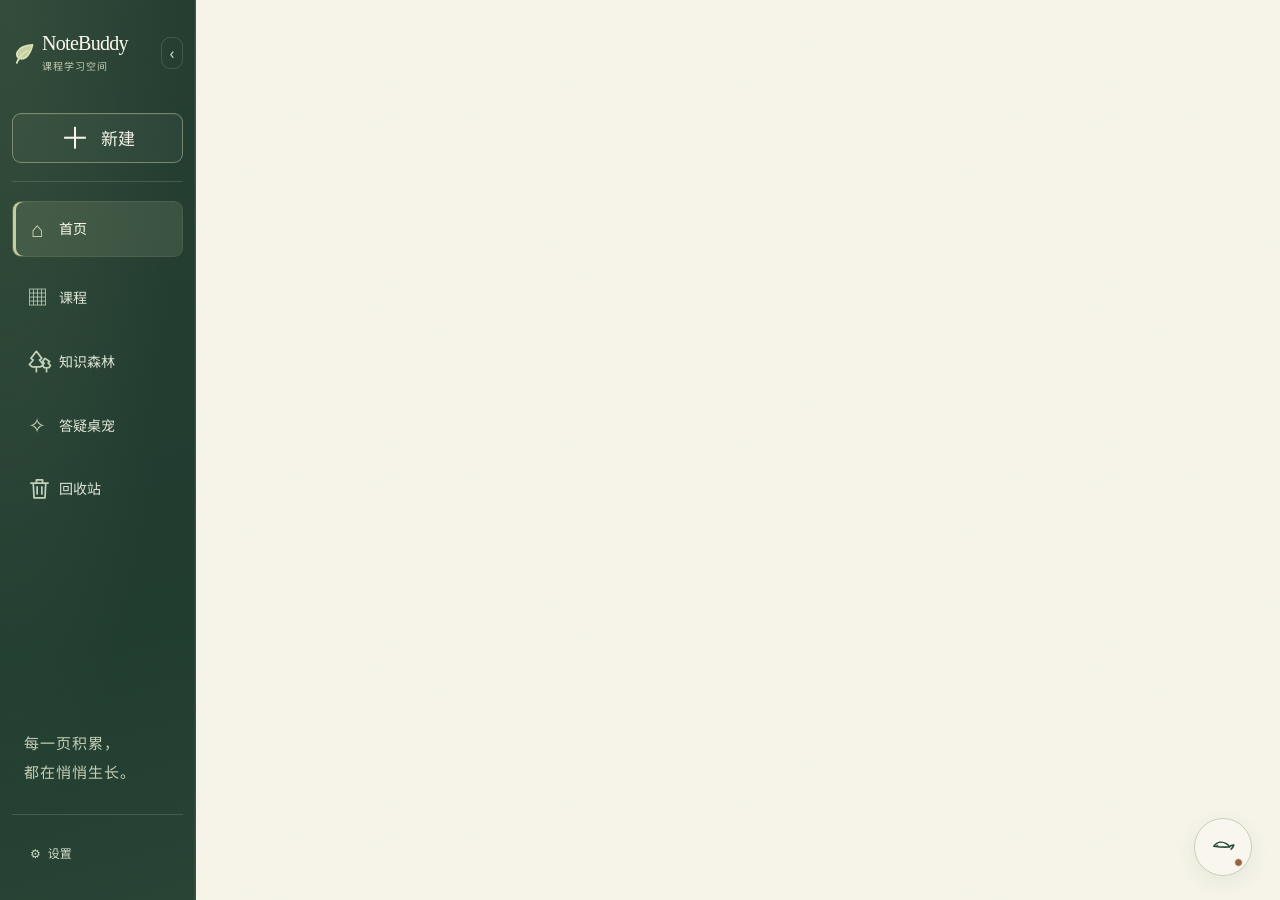
Test case: 非课程页（首页）打开的悬浮坞照样能提问，并说明课程落点
The width and height of the screenshot is (1280, 900).
Click the button named "打开课程学习助手". click: (1223, 847)
box: [1194,818,1252,876]
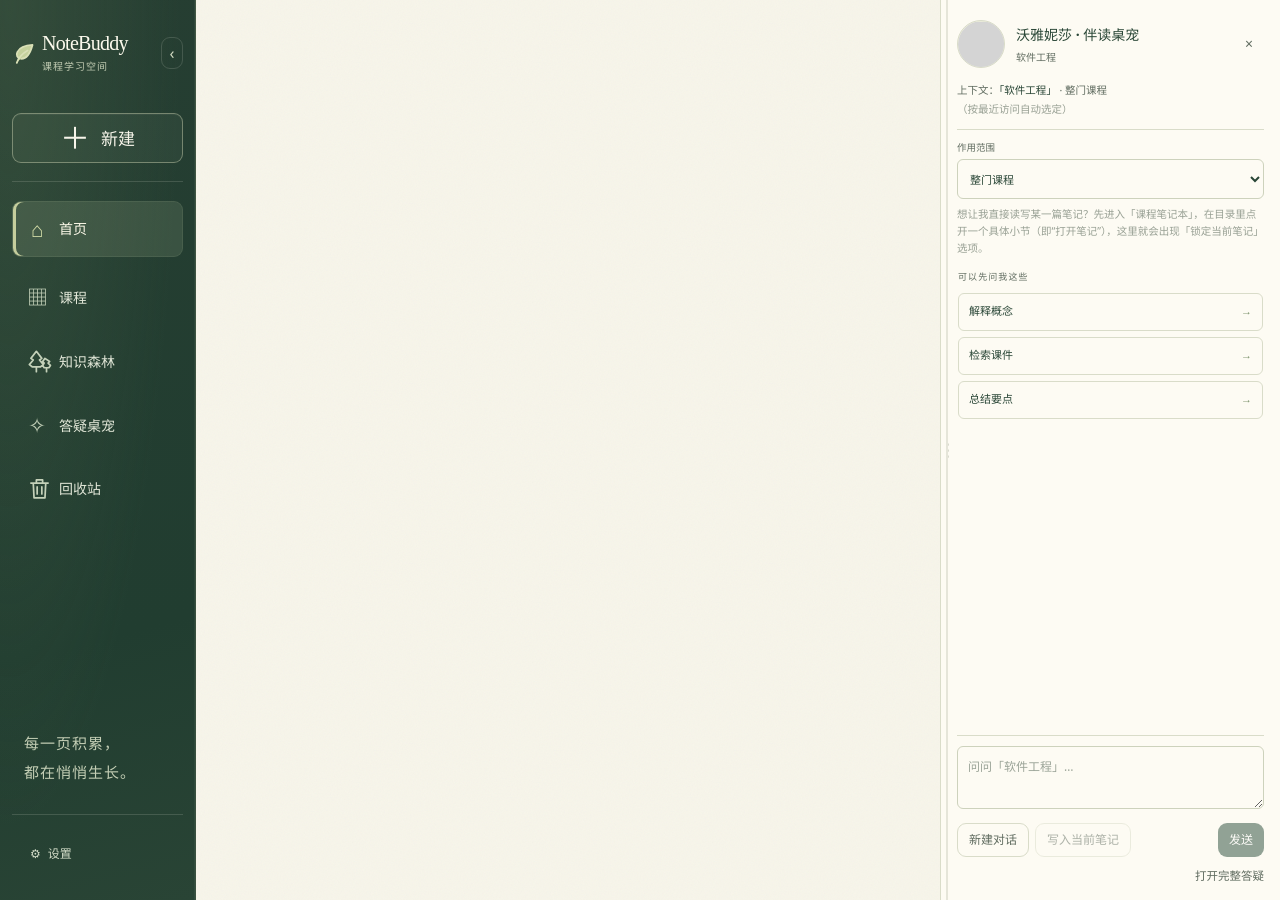
Expected: the text box named "快速提问" is shown, [957,746,1264,809]
Expected: the element with class "assistant-dock-context" shows "软件工程", [1004,83,1046,97]
Expected: the element with class "assistant-dock-context" shows "最近访问", [957,102,1072,116]
